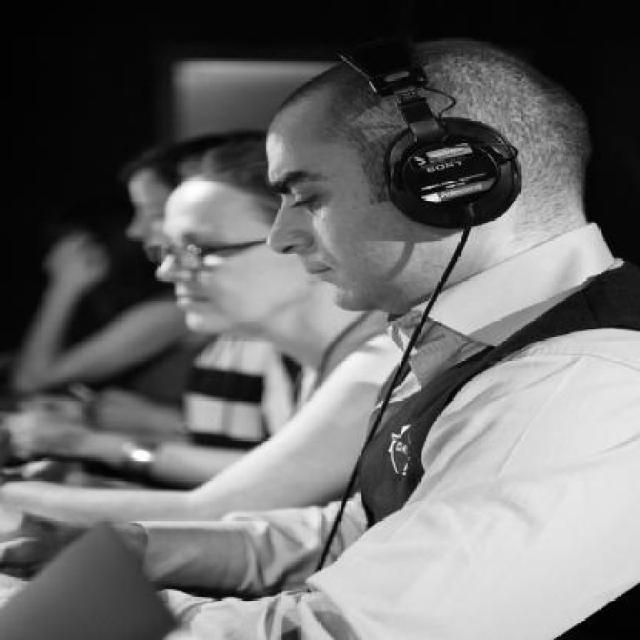earphone: (310, 32, 519, 264)
